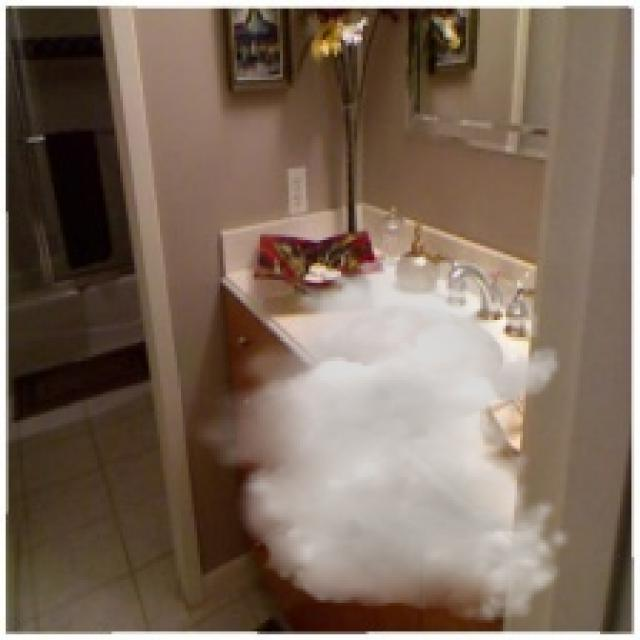smoke: (188, 254, 572, 623)
